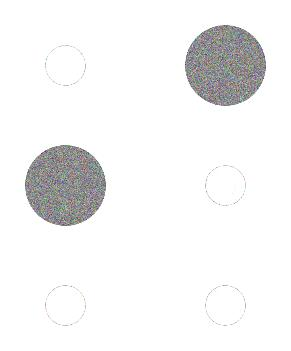I: (19, 18, 273, 333)
